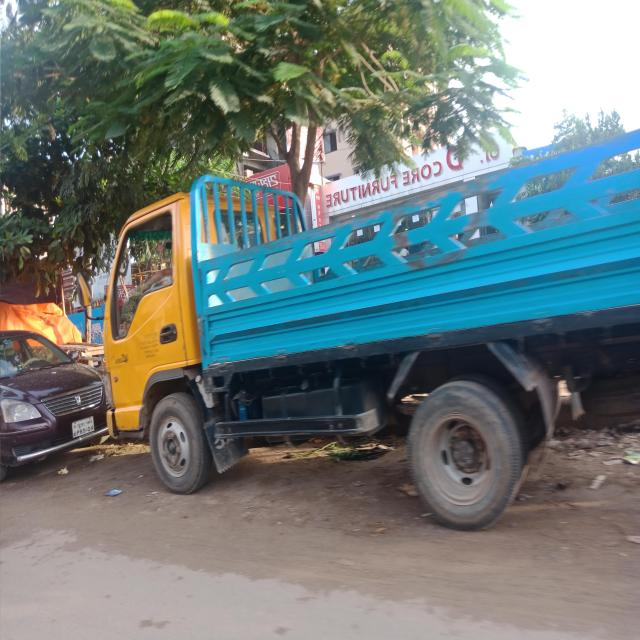truck: (76, 126, 640, 530)
